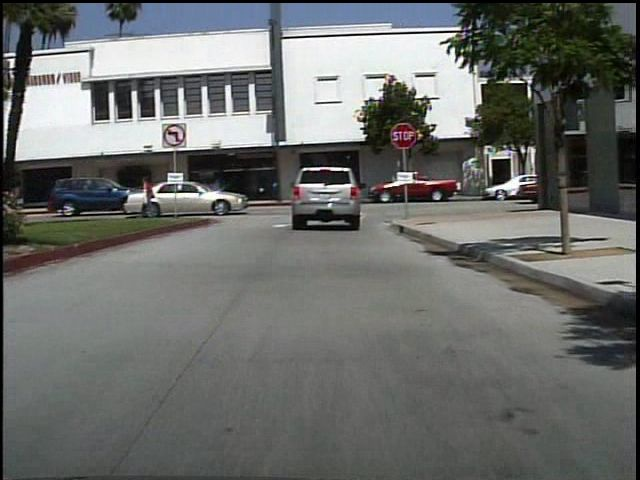person: (331, 168, 358, 227), (135, 173, 167, 221), (209, 174, 226, 205)
